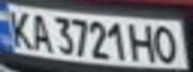1: (106, 19, 130, 61)
2: (87, 18, 109, 61)
3: (48, 14, 75, 56)
7: (66, 16, 90, 57)
A: (27, 10, 54, 53)
H: (127, 20, 160, 63)
K: (3, 7, 36, 51)
O: (151, 22, 184, 64)
